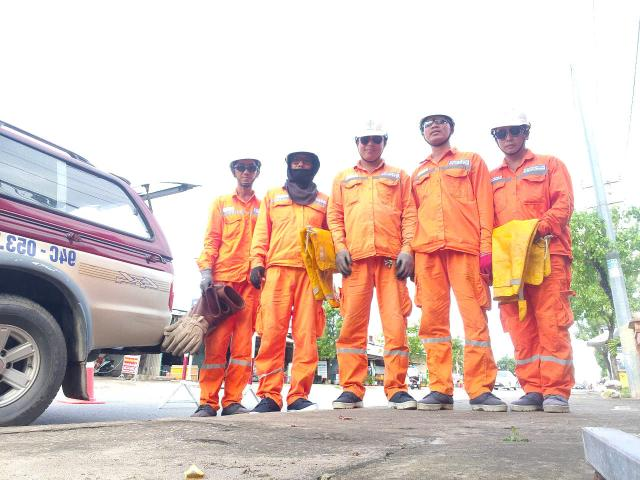gloves: (148, 286, 249, 351), (476, 247, 502, 290), (191, 266, 224, 296), (244, 256, 270, 291), (397, 249, 418, 284), (332, 246, 354, 279)
helmet: (486, 102, 545, 136), (402, 101, 464, 133), (278, 136, 336, 166), (221, 144, 271, 171), (349, 116, 394, 140)
shoes: (375, 376, 421, 419), (458, 382, 507, 422), (419, 387, 464, 423), (328, 382, 371, 416), (506, 384, 542, 419), (279, 386, 317, 419), (539, 384, 574, 419), (214, 394, 255, 419), (246, 396, 285, 416), (186, 395, 217, 416)
